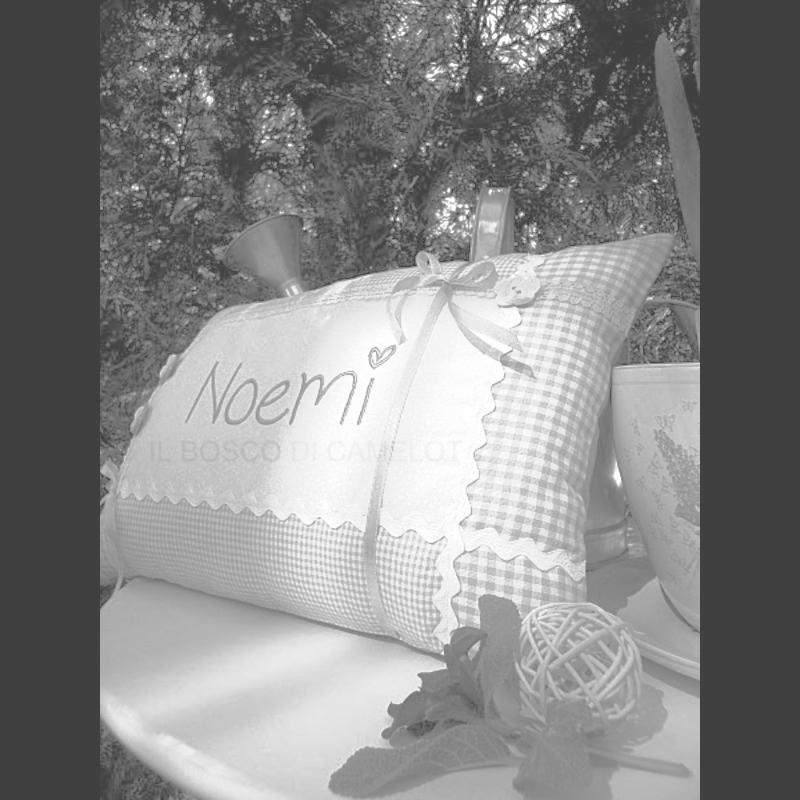pillow: (400, 469, 700, 521)
